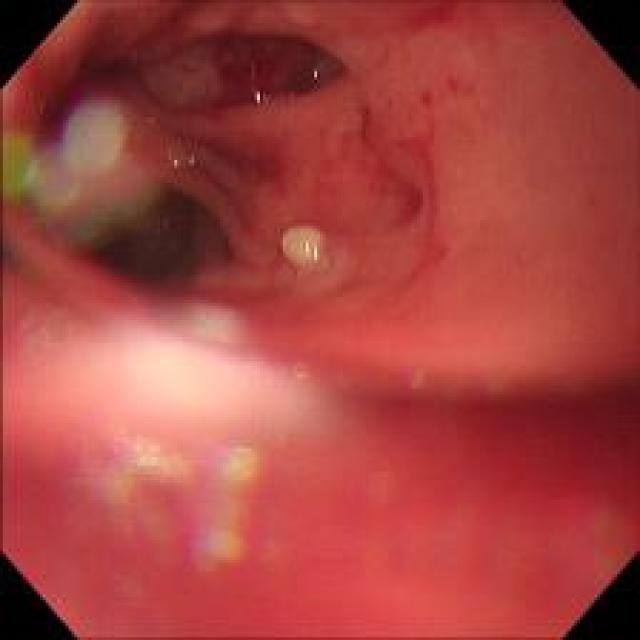blur: (4, 269, 634, 634)
color misalignment: (96, 416, 270, 578), (9, 99, 131, 220)
contrast: (75, 25, 344, 118), (74, 178, 230, 299)
